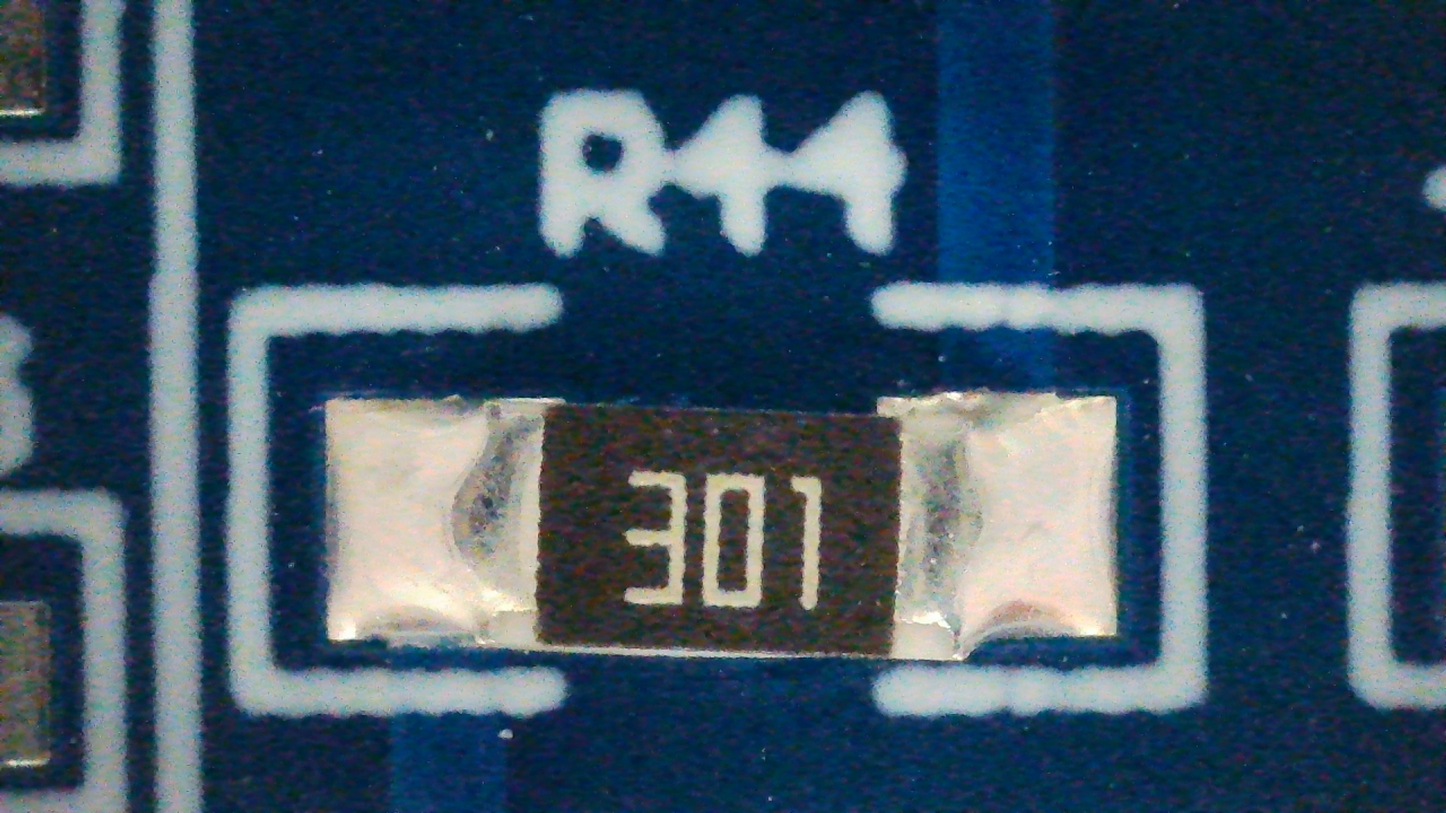NG: (326, 397, 1115, 661)
